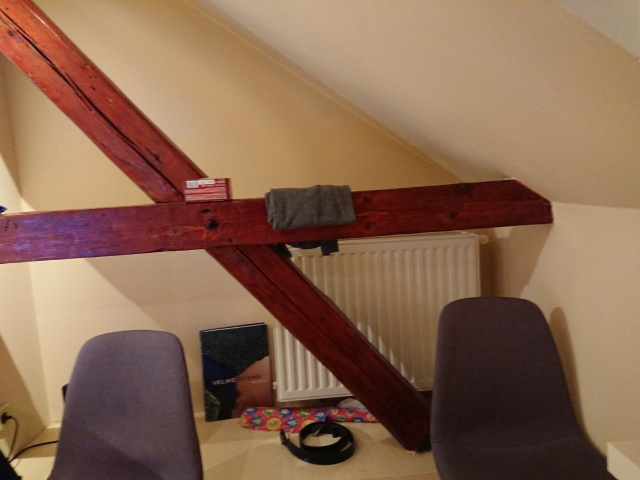Franck Apple Cinnamon Tea 60g: (180, 175, 233, 205)
